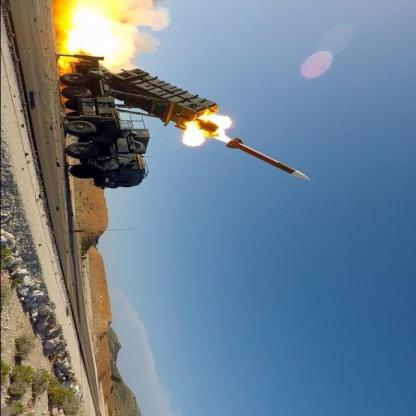MIL_TBM: (218, 137, 318, 183)
